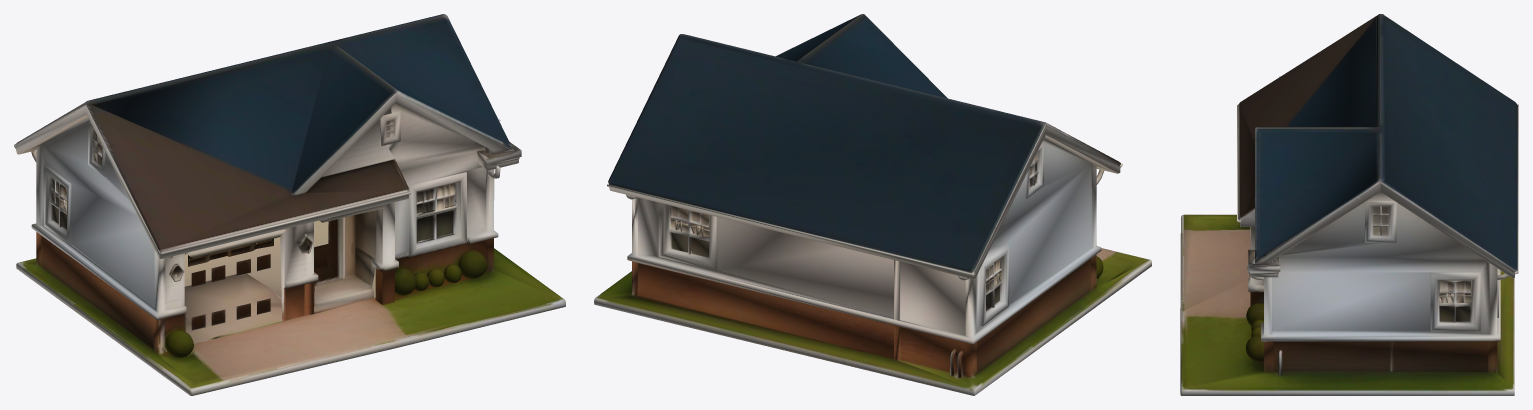
Rendered from house_with_garage_residential_realistic_style_79ec16e3_v2.glb.
3 renders of one model, left to right at view 1: azimuth 30°, elevation 25°; view 2: azimuth 150°, elevation 25°; view 3: azimuth 270°, elevation 25°, orthographic. The views are drawn at different scales.
Visible parts, largest first — view 1: material; view 2: material; view 3: material.
Boxes of the visible parts, <box> form: material: <box>14,14,565,395</box>; material: <box>594,14,1151,395</box>; material: <box>1180,14,1518,395</box>.
Size of the model in its own units: 1.9 by 1.06 by 1.56.
Materials: 1 (1 with a texture image).
